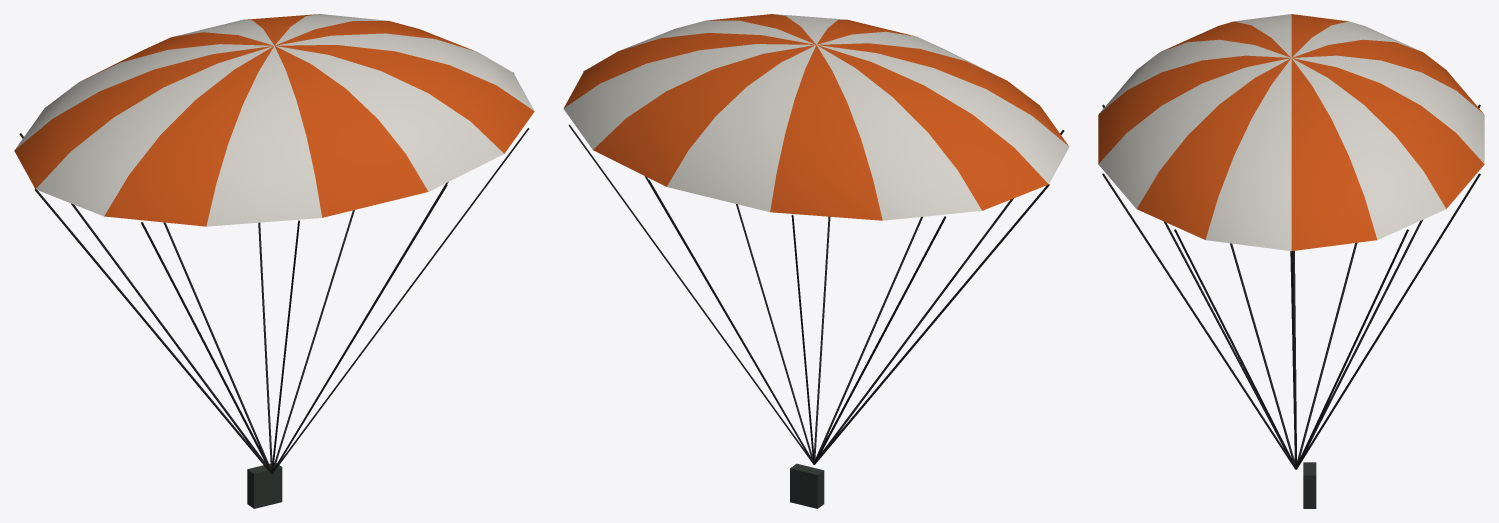
Rendered from parachute.glb.
3 views of the same model, side by side, from view 1: azimuth 30°, elevation 25°; view 2: azimuth 150°, elevation 25°; view 3: azimuth 270°, elevation 25° (orthographic). The views are drawn at different scales.
Visible parts, largest first — view 1: ParachuteMesh; view 2: ParachuteMesh; view 3: ParachuteMesh.
Boxes of the visible parts, <box> form: ParachuteMesh: <box>14,14,534,508</box>; ParachuteMesh: <box>563,14,1069,508</box>; ParachuteMesh: <box>1098,14,1484,508</box>.
Size of the model in its own units: 5.76 by 5.33 by 4.2.
